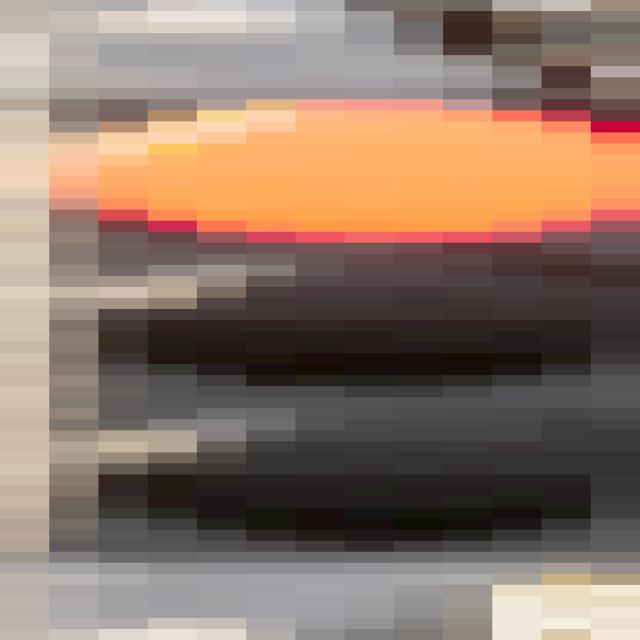red_light: (0, 81, 640, 563)
